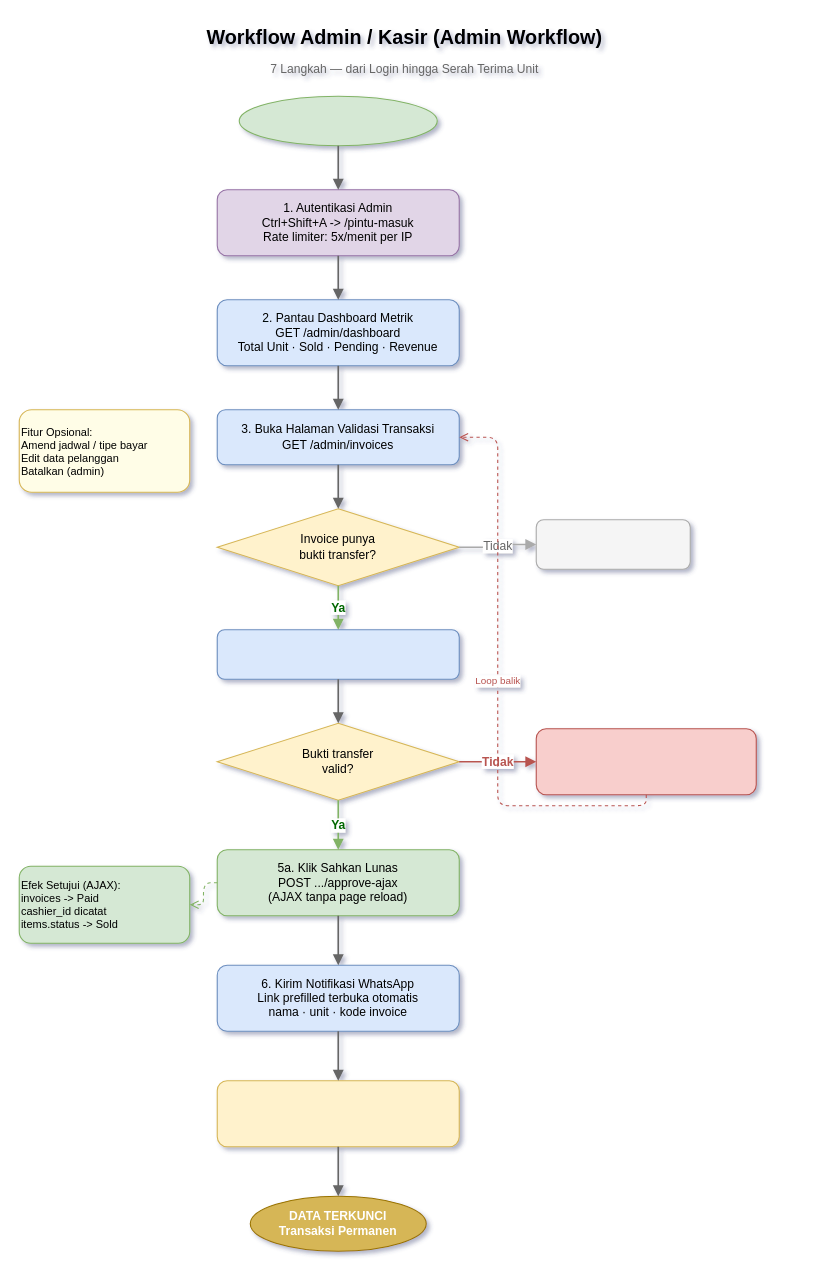
This 815x1277 diagram has some shape labels left out. Here are the shapes that lost their labels. From the top down, the centre of each, then its label:
At (337,120): "MULAI — ADMIN LOGIN".
At (612,544): "Tunggu pelanggan upload bukti".
At (337,654): "4. Tinjau Gambar Bukti Transfer".
At (645,761): "5b. Isi Catatan Penolakan POST .../reject-ajax min. 10 karakter".
At (337,1113): "7. Konfirmasi Serah Terima Unit POST .../handover-ajax handed_over_at dicatat".
